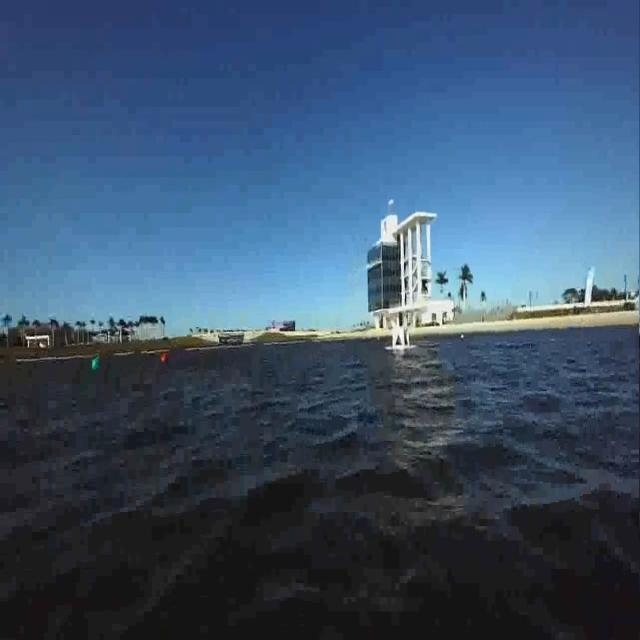green-buoy: (92, 357, 101, 368)
red-buoy: (161, 353, 168, 368)
